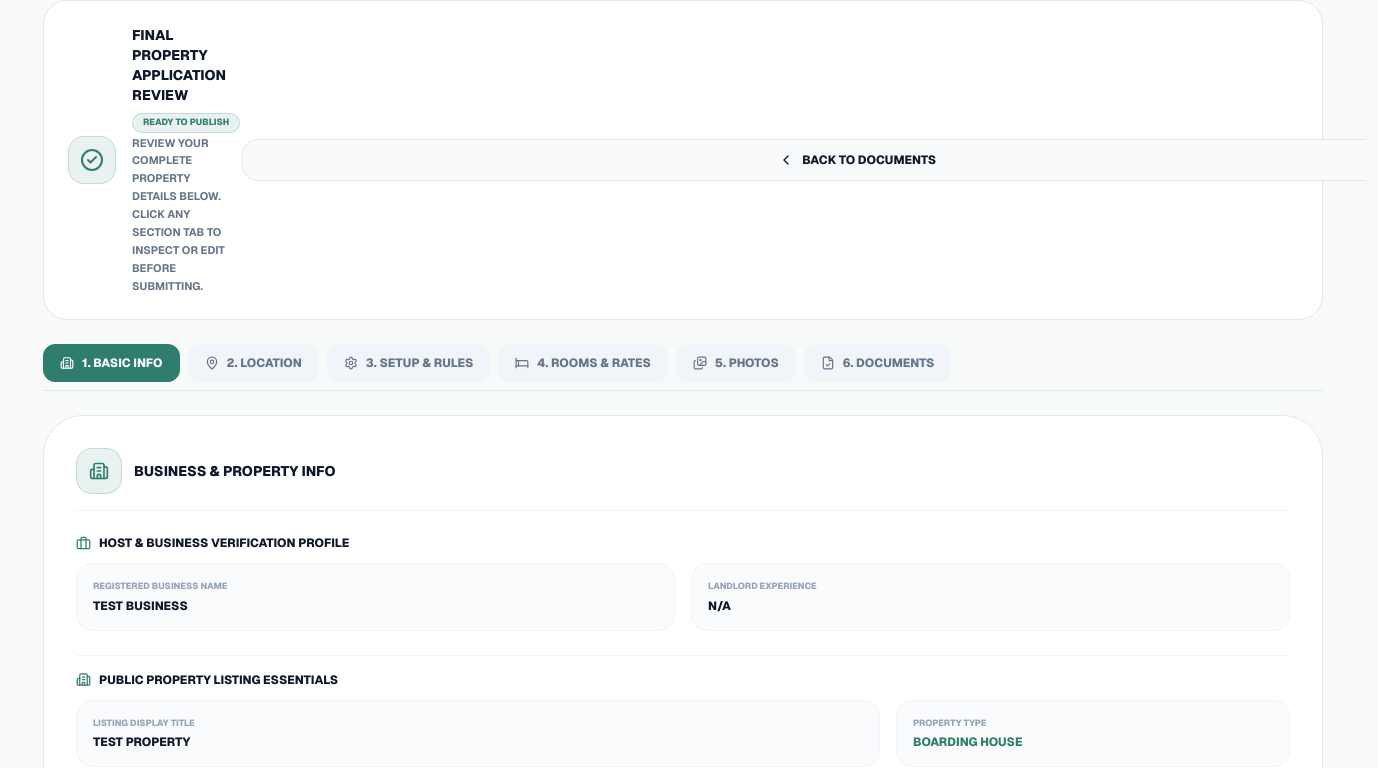
Scenario: ReviewStep › renders amenities, rules, and features
Click the button "3. Setup & Rules". click: (409, 363)
box: [327, 344, 490, 382]
(page scrolled)
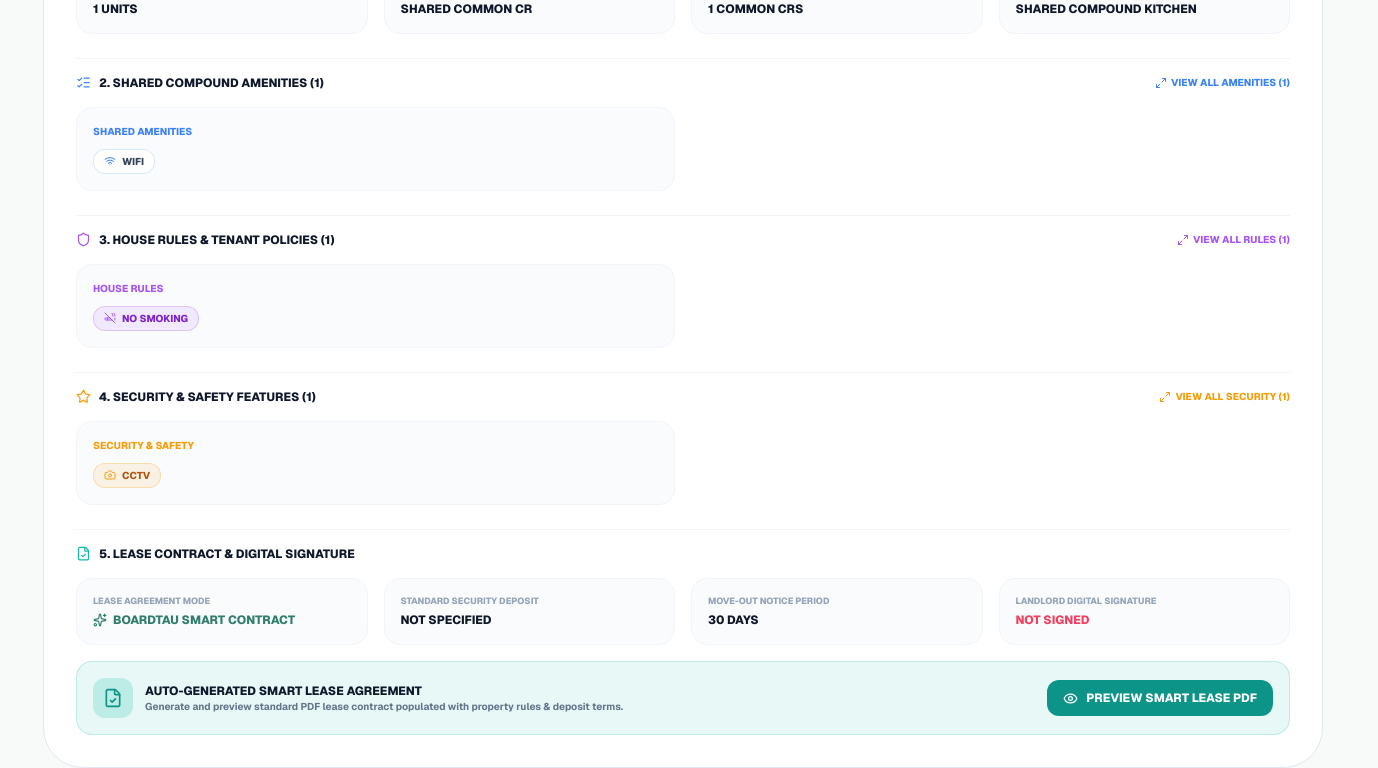
expect the text "WiFi" is shown: met, box [122, 154, 144, 169]
expect the text "No Smoking" is shown: met, box [122, 311, 188, 326]
expect the text "CCTV" is shown: met, box [122, 468, 150, 483]
